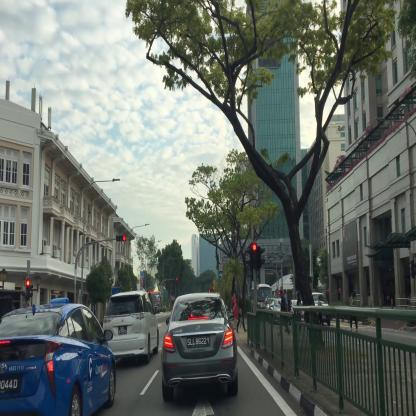red_traffic_light: (252, 242, 258, 268), (116, 235, 126, 242)
